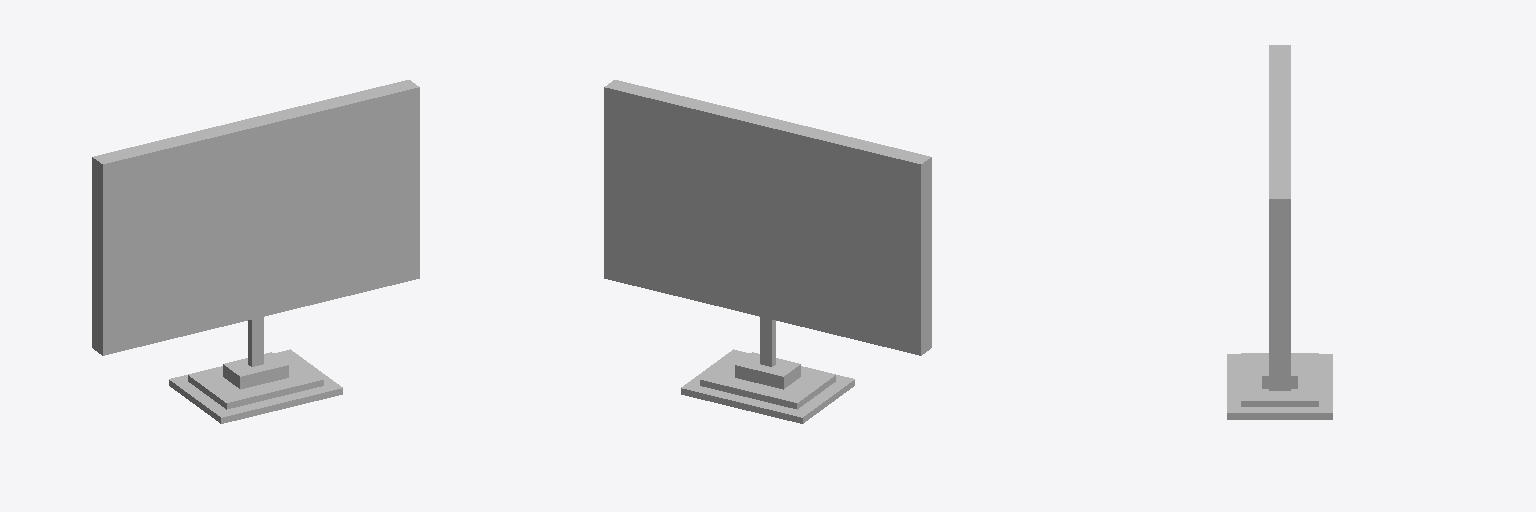
File: Monitor.obj
3 renders of one model, left to right at view 1: azimuth 30°, elevation 25°; view 2: azimuth 150°, elevation 25°; view 3: azimuth 270°, elevation 25°, orthographic.
Parts seen in each view (by area): view 1: Untitled, Untitled.001; view 2: Untitled.001; view 3: Untitled.001.
Boxes of the visible parts, box(x1,y1,x2,y2) form: Untitled: box(109, 95, 413, 347); Untitled.001: box(92, 80, 419, 423); Untitled.001: box(604, 80, 931, 423); Untitled.001: box(1227, 45, 1332, 419).
Bounding box in the file's own units: 5.2 × 4.2 × 1.5.